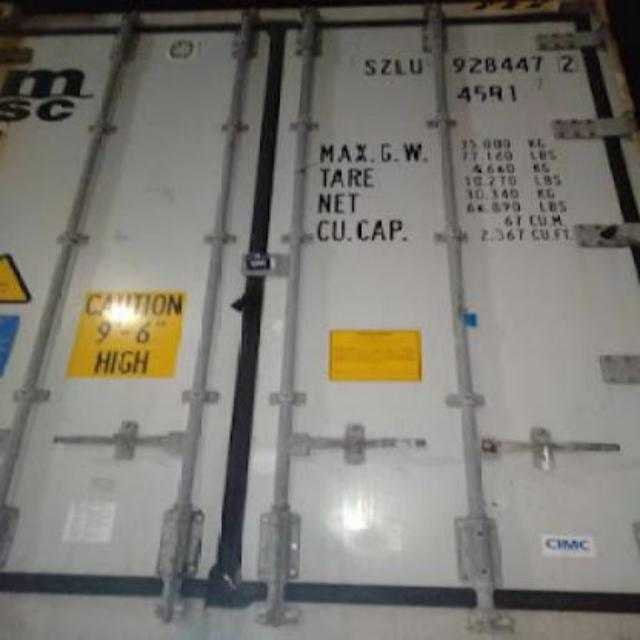2: (560, 54, 576, 76), (468, 55, 482, 75)
4: (514, 54, 532, 74), (498, 54, 514, 74)
7: (528, 54, 546, 76)
8: (484, 56, 498, 74)
9: (452, 56, 466, 76)
L: (396, 58, 408, 78)
S: (360, 56, 378, 76)
U: (408, 56, 426, 80)
Z: (378, 56, 394, 76)
